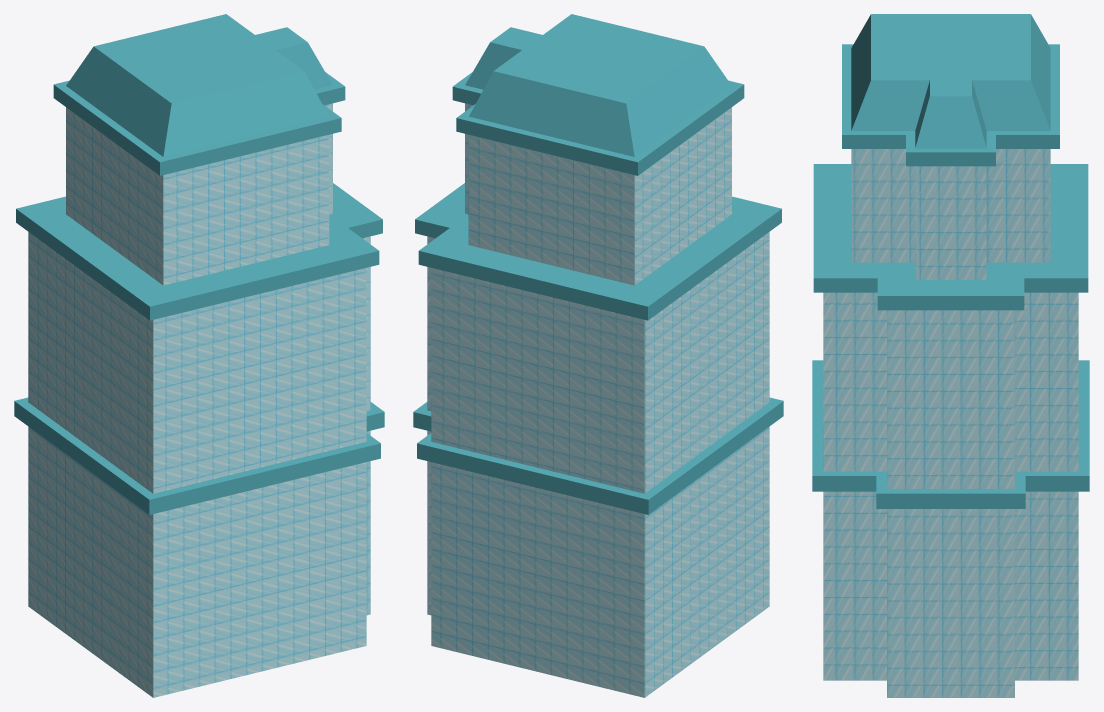
The model's file is bina7.fbx.
The picture shows the model from 3 angles, left to right: view 1: azimuth 30°, elevation 25°; view 2: azimuth 150°, elevation 25°; view 3: azimuth 270°, elevation 25°; orthographic projection. The views are drawn at different scales.
Visible parts, largest first — view 1: bina7_; view 2: bina7_; view 3: bina7_.
Boxes of the visible parts, x1,y1,x2,y2 form: bina7_: [14, 14, 384, 697]; bina7_: [413, 14, 783, 697]; bina7_: [812, 14, 1089, 697].
Bounding box in the file's own units: 47 × 95.55 × 41.31.
